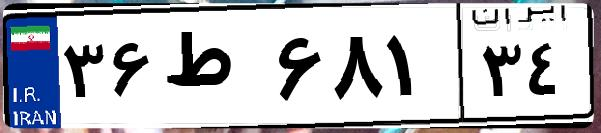1: (385, 28, 445, 110)
3: (57, 26, 110, 100), (475, 38, 525, 113)
4: (525, 38, 570, 115)
6: (270, 28, 330, 110), (110, 28, 158, 98)
8: (330, 28, 385, 110)
ط: (158, 20, 270, 120)
